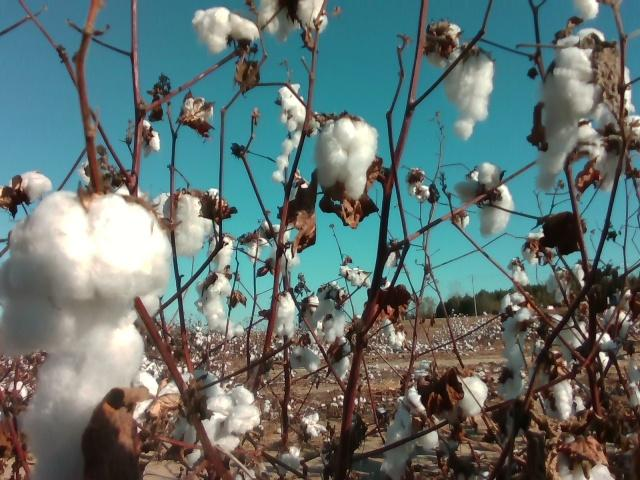cotton_ready: (0, 192, 174, 359), (22, 323, 146, 480), (540, 29, 608, 177), (169, 376, 259, 464), (381, 387, 441, 480), (315, 118, 379, 200), (444, 50, 493, 142), (455, 163, 512, 234), (148, 192, 209, 256), (191, 7, 259, 55), (258, 0, 324, 34), (450, 376, 488, 419), (548, 460, 616, 480)
